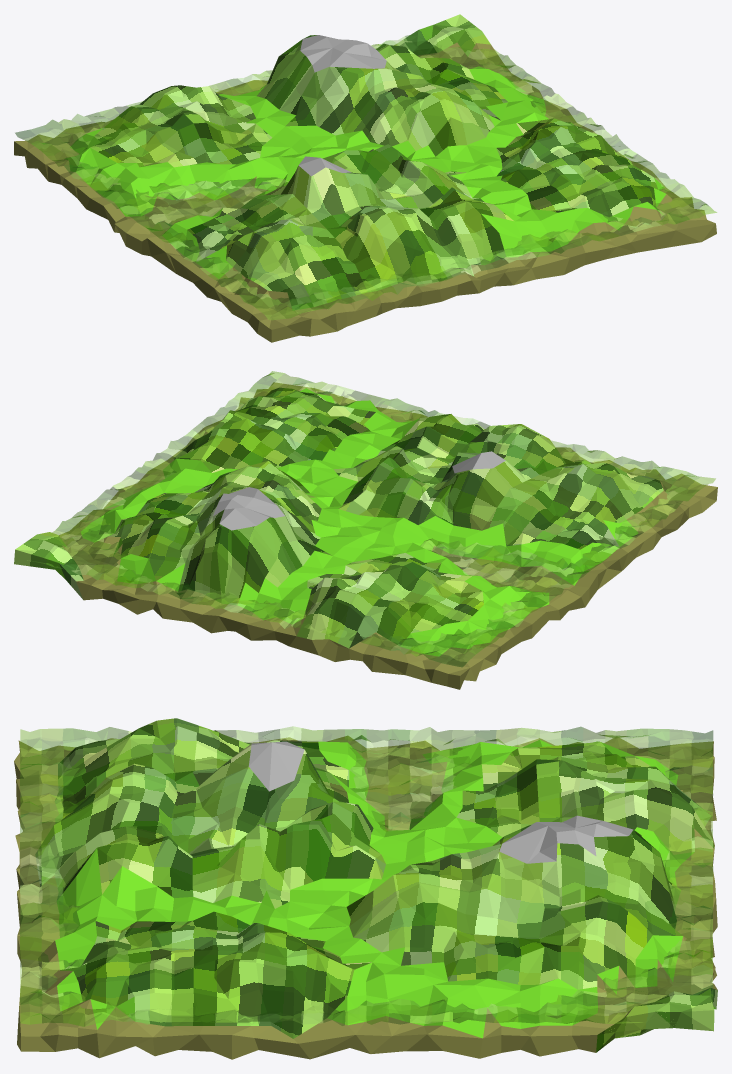
File: map.gltf
3 renders of one model, top to bottom at view 1: azimuth 30°, elevation 25°; view 2: azimuth 150°, elevation 25°; view 3: azimuth 270°, elevation 25°, orthographic. The views are drawn at different scales.
Parts seen in each view (by area): view 1: Plane, Plane.001; view 2: Plane, Plane.001; view 3: Plane, Plane.001.
Part boxes in pixels (x1,y1,x2,y2): Plane: (14, 14, 716, 342); Plane.001: (15, 35, 716, 320); Plane: (14, 382, 717, 689); Plane.001: (27, 371, 715, 667); Plane: (14, 718, 717, 1059); Plane.001: (20, 726, 713, 1026).
Bounding box in the file's own units: 143 × 27.53 × 142.
5 materials, 2 textured.
